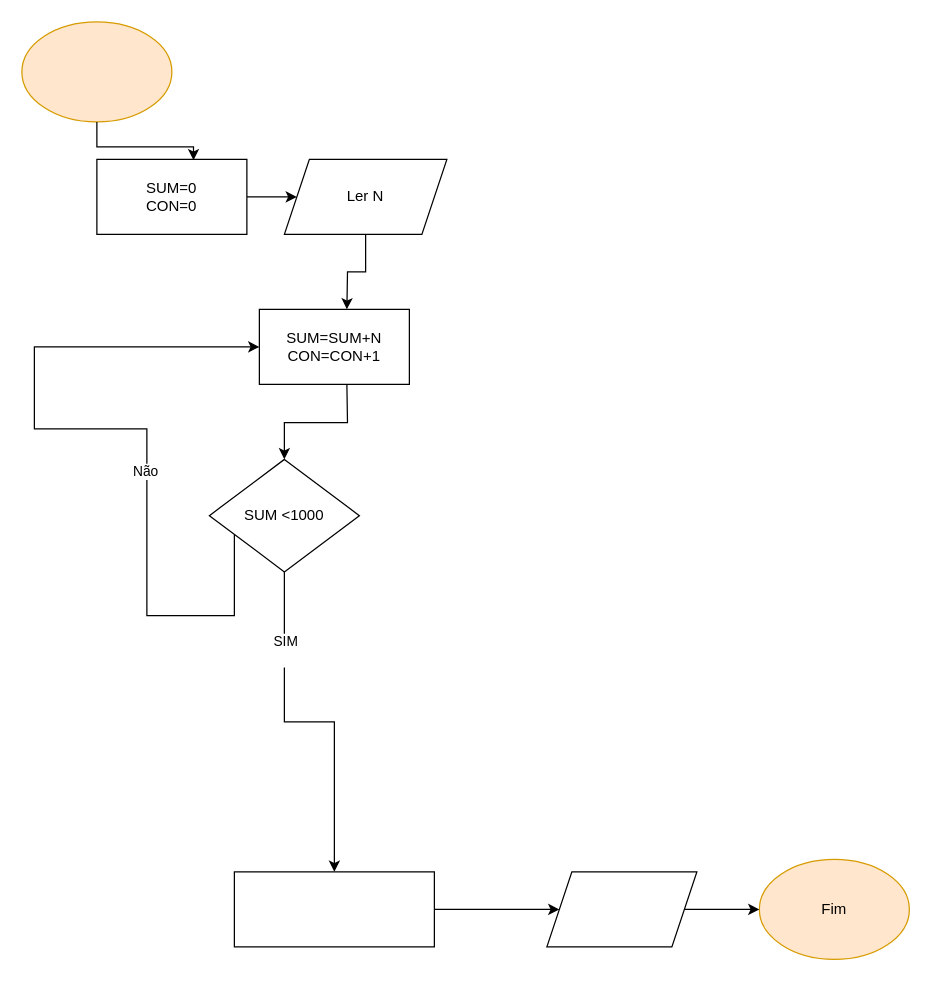
This 931x981 diagram has some shape labels left out. The box of each missing label's shape, as (x1, y1, x2, y2) in pixels:
Escrever total: (546, 871, 697, 947)
Início: (21, 21, 172, 122)
Média=SUM/CON: (233, 871, 434, 947)
